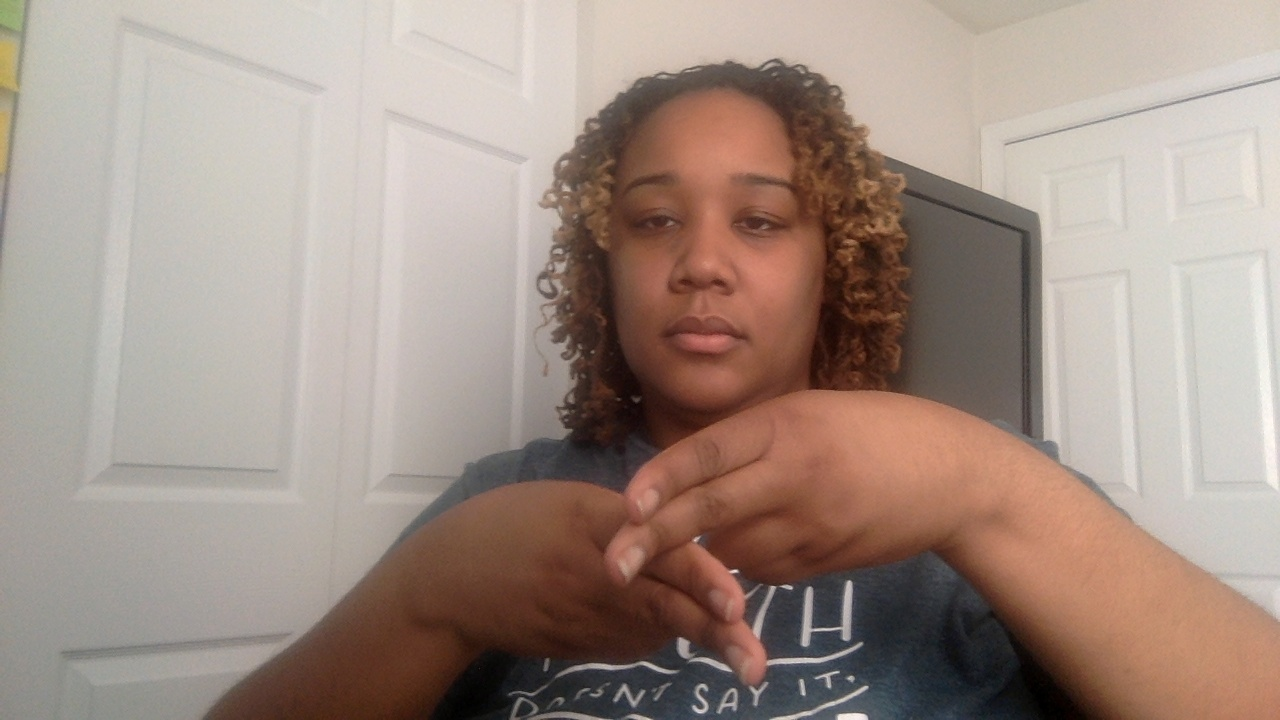name: (370, 393, 1057, 680)
